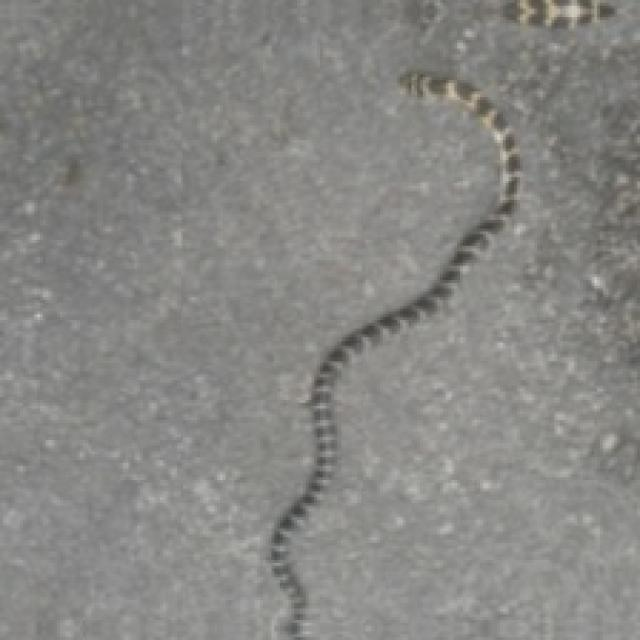king cobra: (286, 0, 637, 637)
